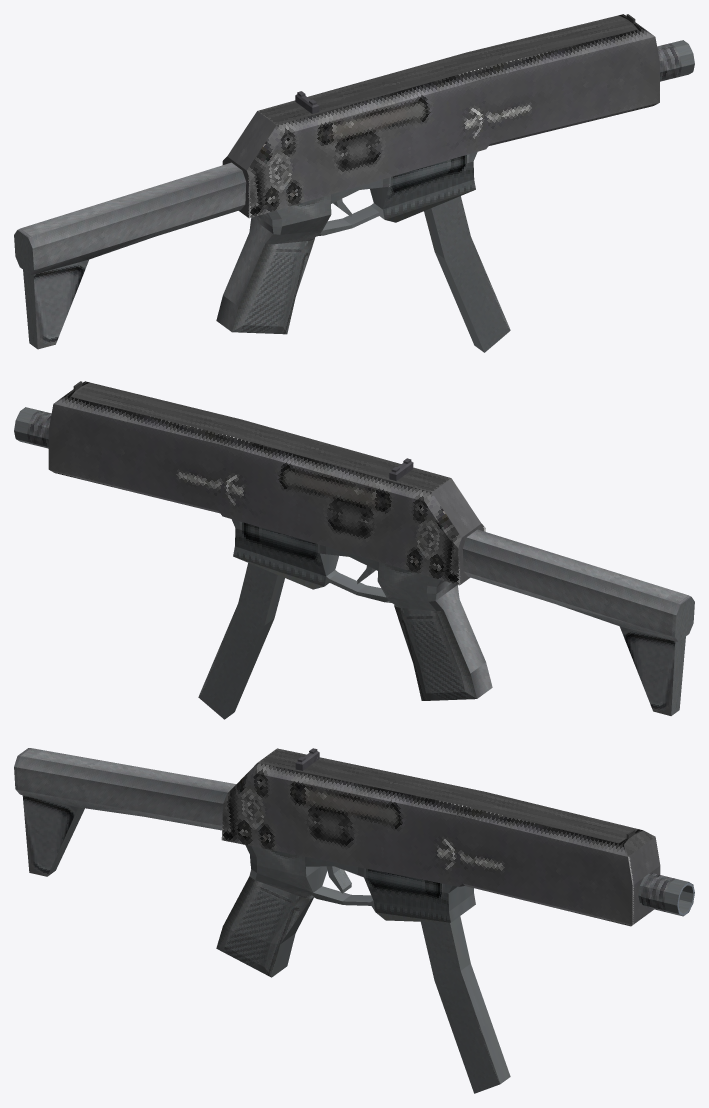
Rendered from burst_gun.glb.
3 renders of one model, top to bottom at view 1: azimuth 30°, elevation 25°; view 2: azimuth 150°, elevation 25°; view 3: azimuth 330°, elevation 25°, orthographic.
Parts seen in each view (by area): view 1: Main, Handle, Stock, Barrel; view 2: Main, Handle, Stock, Barrel; view 3: Main, Handle, Stock, Barrel.
Part boxes in pixels (<box>): Main: <box>222,14,659,218</box>; Handle: <box>216,152,510,352</box>; Stock: <box>14,162,246,349</box>; Barrel: <box>657,40,694,81</box>; Main: <box>48,381,485,585</box>; Handle: <box>198,519,492,719</box>; Stock: <box>462,529,694,715</box>; Barrel: <box>14,407,51,448</box>; Main: <box>221,748,660,926</box>; Handle: <box>216,845,510,1093</box>; Stock: <box>14,748,236,876</box>; Barrel: <box>638,873,694,916</box>.
Size of the model in its own units: 4.56 by 1.94 by 0.3293.
Materials: 4 (4 with a texture image).
